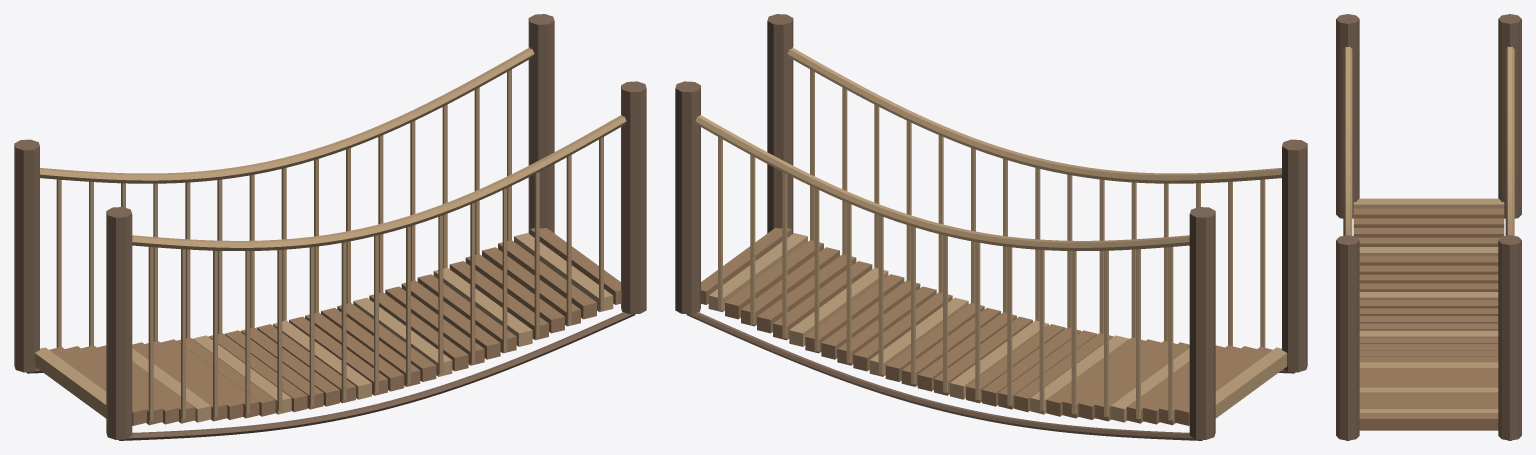
The model's file is Bridge_Rope_Complete_Short_4m.fbx.
3 renders of one model, left to right at view 1: azimuth 30°, elevation 25°; view 2: azimuth 150°, elevation 25°; view 3: azimuth 270°, elevation 25°, orthographic. The views are drawn at different scales.
Visible parts, largest first — view 1: Bridge_Rope_Complete_Short_4m; view 2: Bridge_Rope_Complete_Short_4m; view 3: Bridge_Rope_Complete_Short_4m.
Boxes of the visible parts, <box> form: Bridge_Rope_Complete_Short_4m: <box>14,14,646,440</box>; Bridge_Rope_Complete_Short_4m: <box>675,14,1307,440</box>; Bridge_Rope_Complete_Short_4m: <box>1336,14,1521,440</box>.
Bounding box in the file's own units: 418 × 194 × 142.
